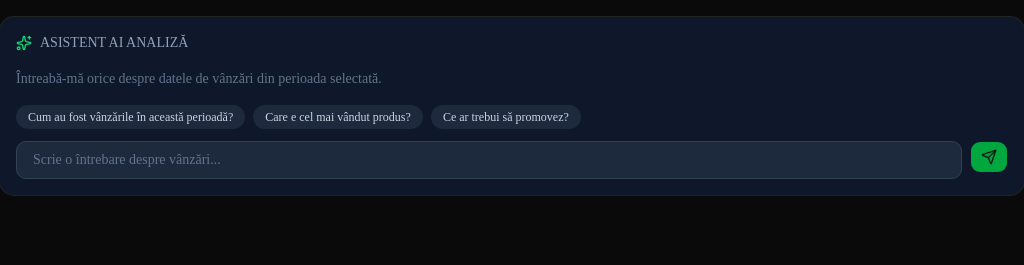
Test: ManagerInsightsChat › sends a question and renders the AI response with insights
This screenshot has width=1024, height=265.
Type "Cum a fost luna?" into the field with placeholder "Scrie o întrebare despre vânzări...".
click(489, 160); type("Cum a fost luna?")  # box [16, 141, 962, 179]
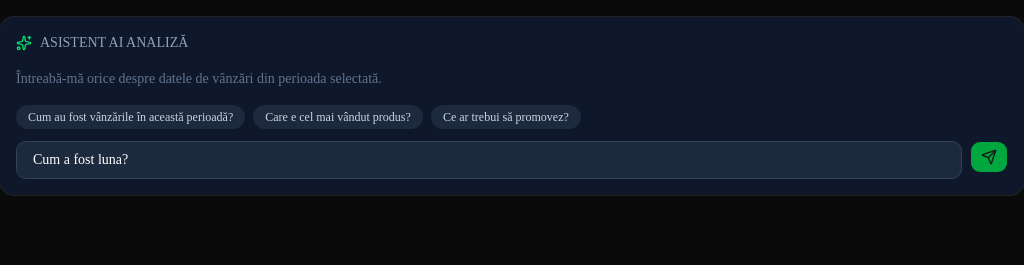
Submit the form with placeholder "Scrie o întrebare", box [16, 141, 1008, 179]
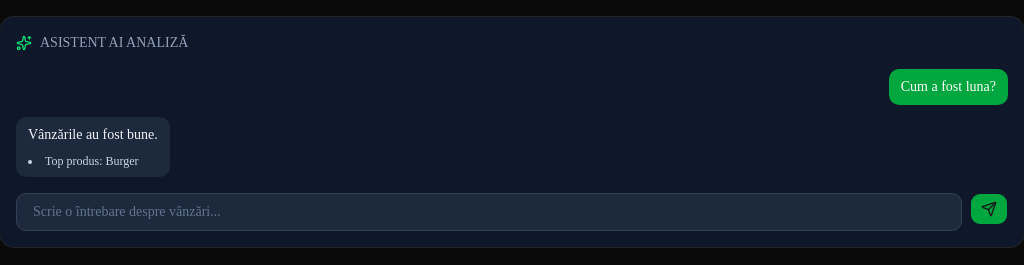
Expected: the text "Vânzările au fost bune." is shown, [28, 125, 158, 145]
Expected: the list item "Top produs: Burger" is shown, [45, 154, 139, 168]
